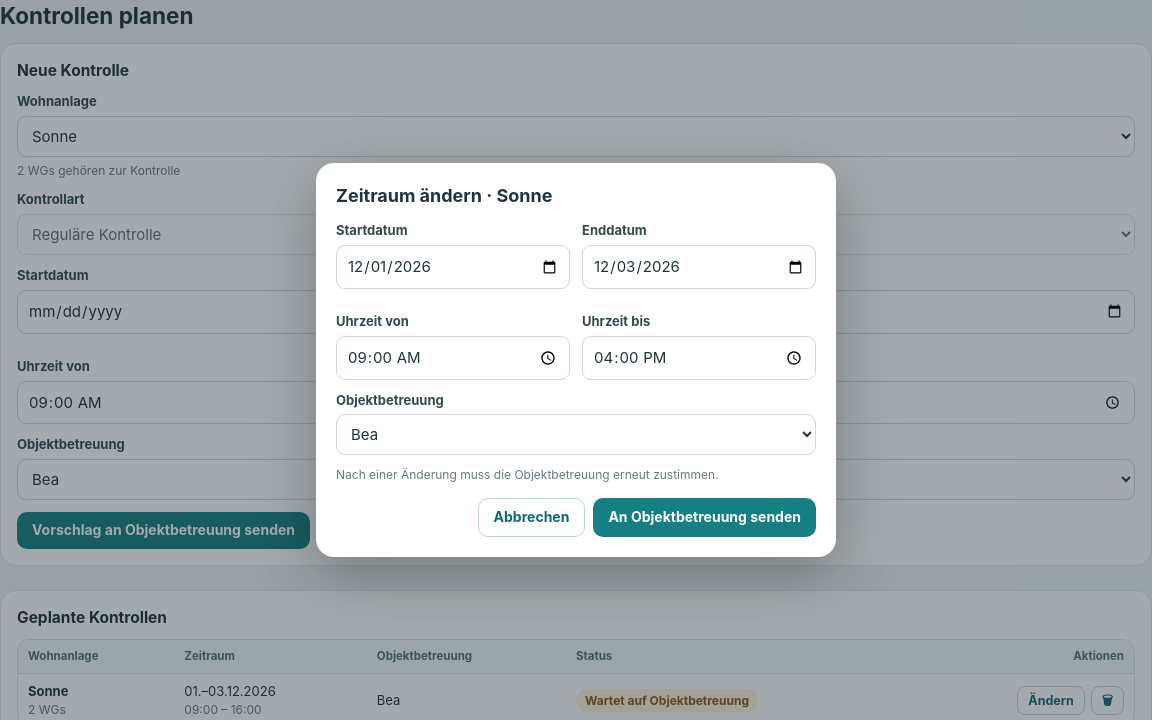
Test: keeps the edit form and the input when a change is rejected
In the date field labelled "Startdatum": (453, 267) [336, 245, 570, 289], type "2026-11-01"
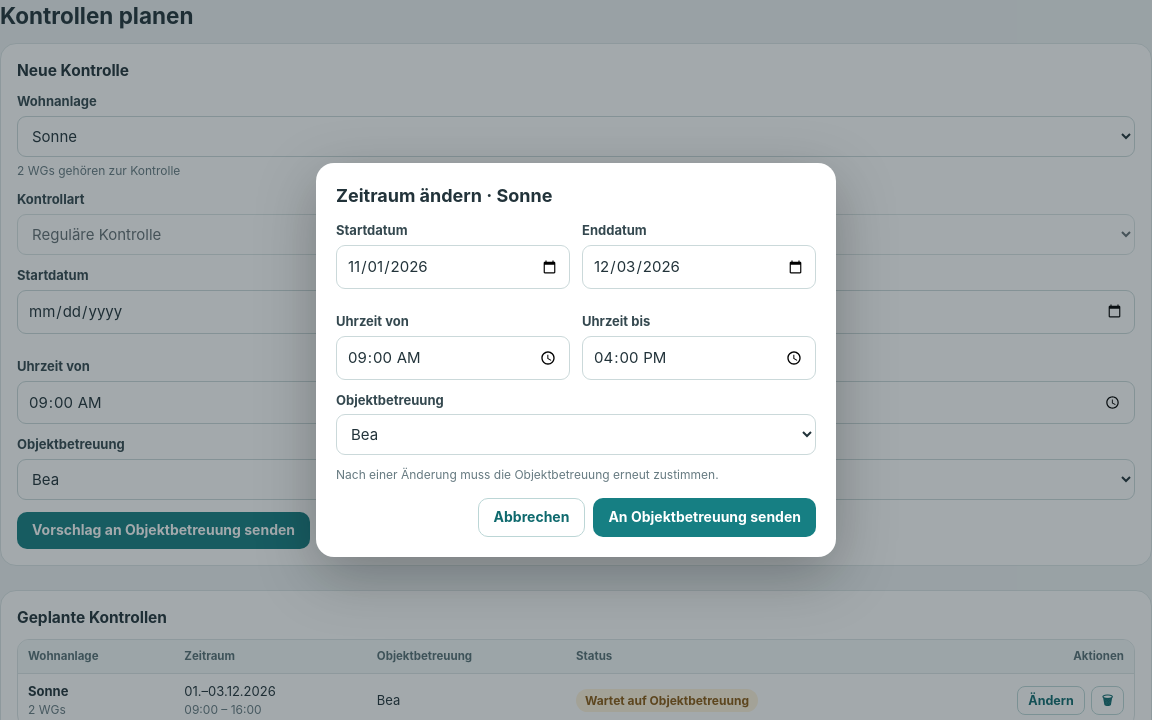
Click the button "An Objektbetreuung senden": (705, 517) [593, 498, 816, 537]
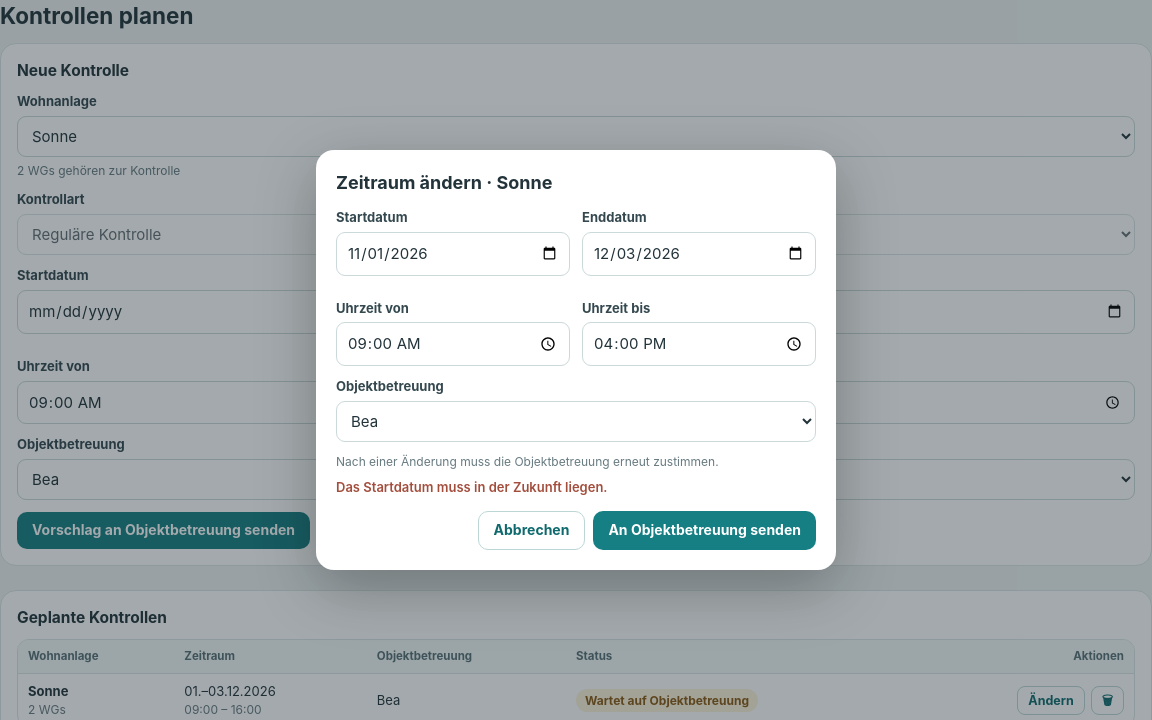
Expected: the message reads "Das Startdatum muss in der Zukunft liegen.", [336, 479, 608, 495]
